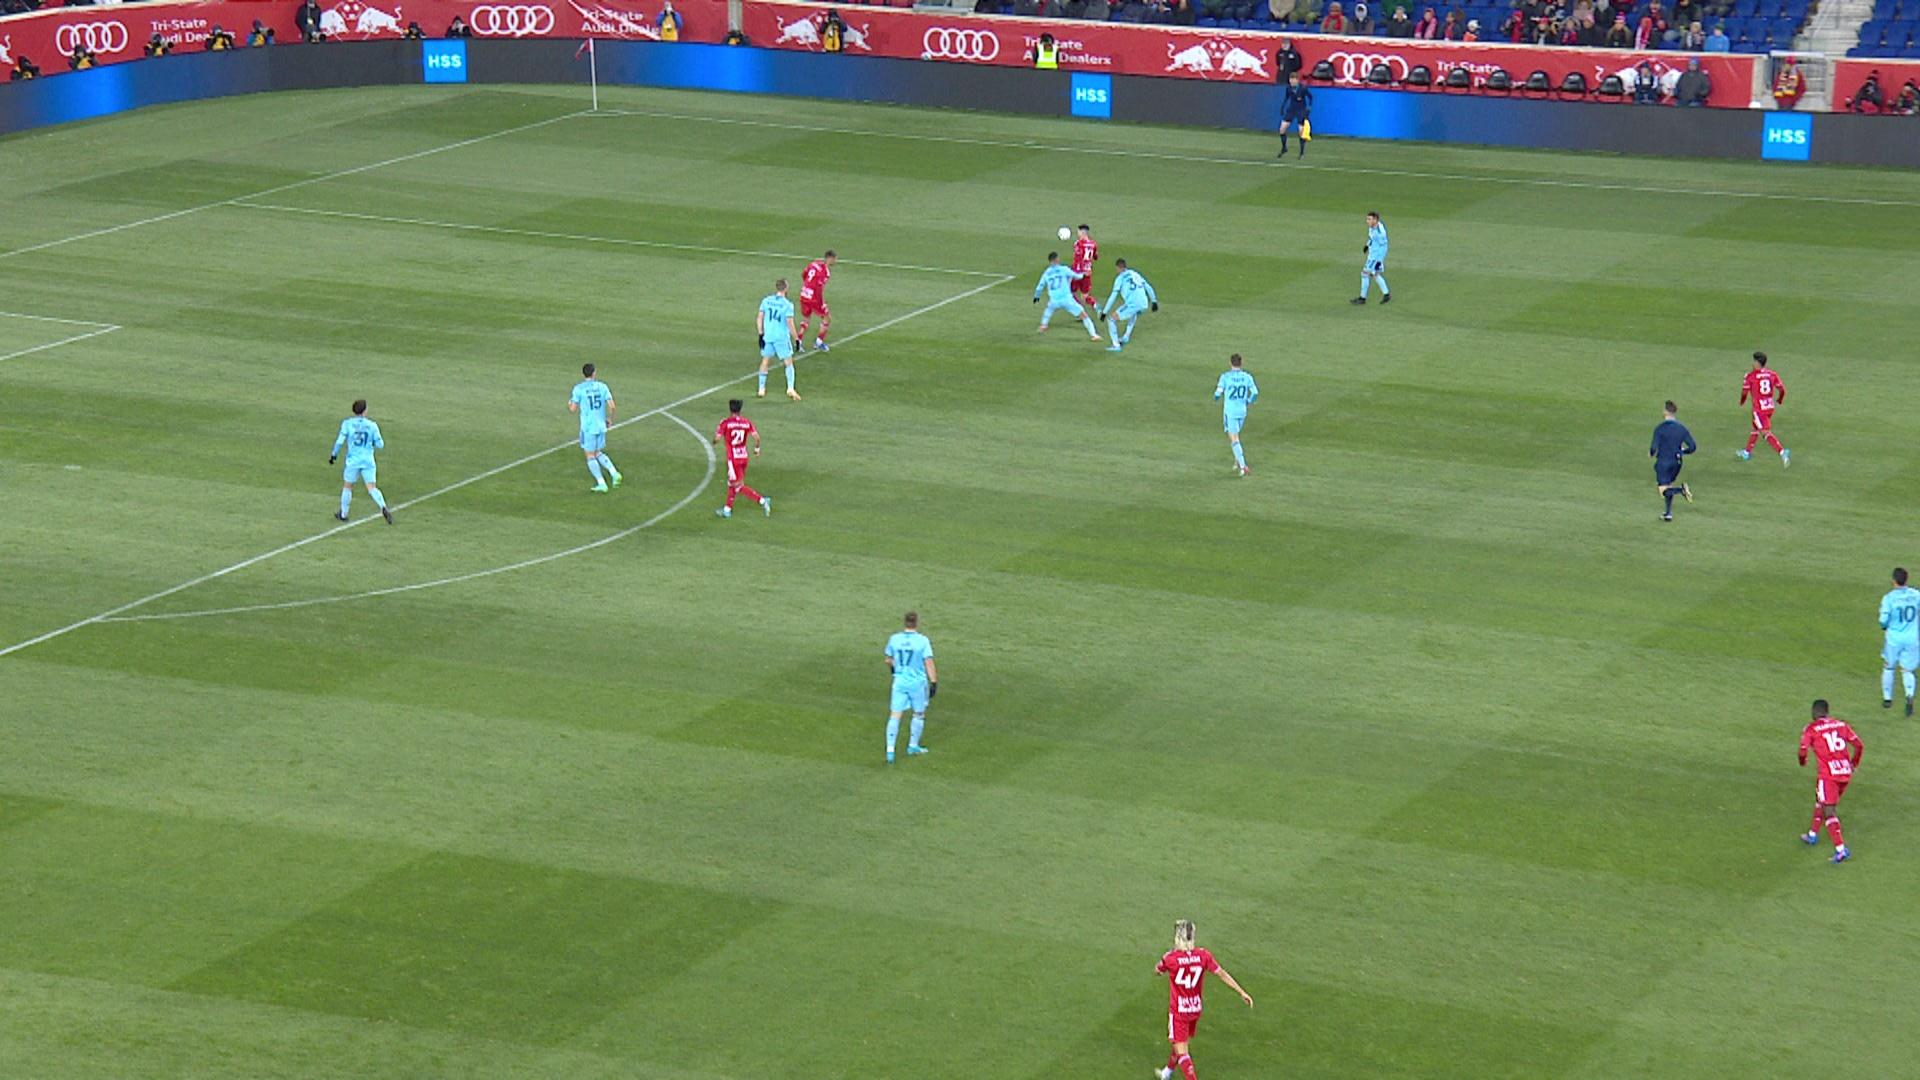football: (1056, 225, 1072, 241)
